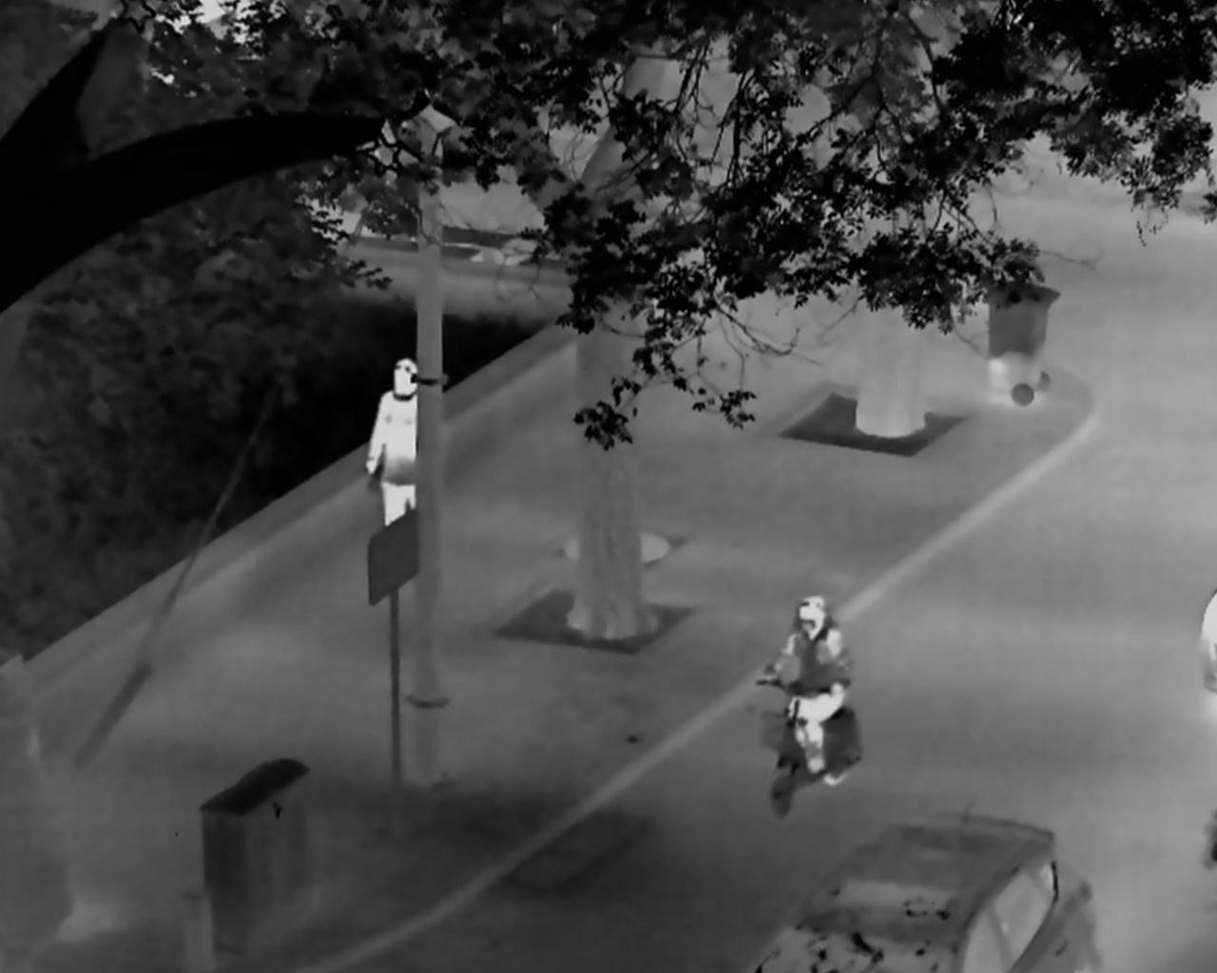person: (759, 593, 851, 777), (363, 359, 423, 531)
